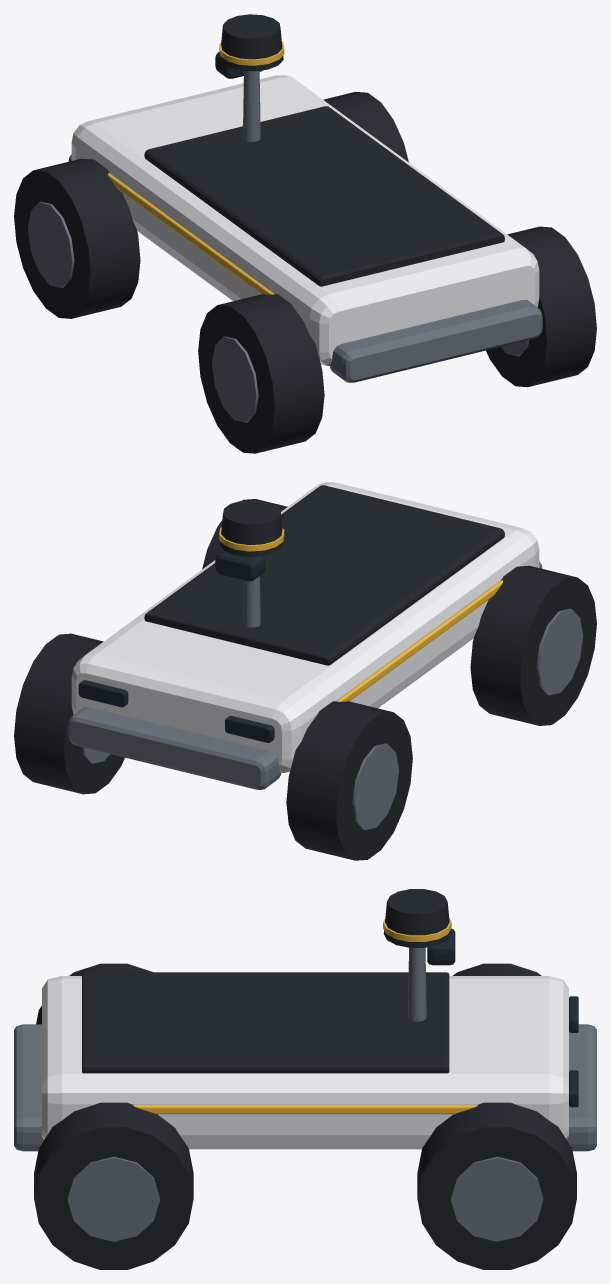
File: rover-BCXiSDiN.glb
3 renders of one model, top to bottom at view 1: azimuth 30°, elevation 25°; view 2: azimuth 150°, elevation 25°; view 3: azimuth 270°, elevation 25°, orthographic. The views are drawn at different scales.
Parts seen in each view (by area): view 1: Dark, Body, WheelRearLeftDark, WheelFrontLeftDark, Mid, WheelRearRightDark, WheelRearLeftMid, WheelFrontLeftMid, WheelFrontRightDark, Trim; view 2: Body, Dark, WheelFrontLeftDark, WheelRearLeftDark, Mid, WheelFrontRightDark, Glass, WheelFrontLeftMid, WheelRearLeftMid, Trim, WheelRearRightDark; view 3: Body, Dark, WheelFrontRightDark, WheelRearRightDark, Mid, WheelFrontRightMid, WheelRearRightMid, Trim, Glass, WheelFrontLeftDark, WheelRearLeftDark.
Boxes of the visible parts, bbox=[...] form: Dark: bbox=[144, 14, 504, 286]; Body: bbox=[71, 75, 539, 365]; WheelRearLeftDark: bbox=[198, 294, 324, 453]; WheelFrontLeftDark: bbox=[14, 158, 140, 318]; Mid: bbox=[68, 70, 542, 382]; WheelRearRightDark: bbox=[486, 226, 596, 387]; WheelRearLeftMid: bbox=[212, 336, 258, 422]; WheelFrontLeftMid: bbox=[28, 201, 74, 288]; WheelFrontRightDark: bbox=[323, 92, 408, 162]; Trim: bbox=[108, 41, 284, 294]; Body: bbox=[71, 482, 539, 772]; Dark: bbox=[144, 485, 504, 665]; WheelFrontLeftDark: bbox=[286, 701, 412, 860]; WheelRearLeftDark: bbox=[470, 565, 596, 725]; Mid: bbox=[68, 561, 542, 789]; WheelFrontRightDark: bbox=[14, 633, 124, 794]; Glass: bbox=[78, 550, 274, 742]; WheelFrontLeftMid: bbox=[352, 743, 398, 829]; WheelRearLeftMid: bbox=[536, 608, 582, 695]; Trim: bbox=[219, 527, 503, 701]; WheelRearRightDark: bbox=[202, 499, 287, 569]; Body: bbox=[42, 976, 568, 1149]; Dark: bbox=[82, 889, 450, 1073]; WheelFrontRightDark: bbox=[417, 1102, 576, 1269]; WheelRearRightDark: bbox=[34, 1102, 193, 1269]; Mid: bbox=[14, 947, 596, 1151]; WheelFrontRightMid: bbox=[451, 1156, 543, 1241]; WheelRearRightMid: bbox=[67, 1156, 159, 1241]; Trim: bbox=[133, 918, 477, 1114]; Glass: bbox=[427, 928, 578, 1107]; WheelFrontLeftDark: bbox=[453, 963, 541, 975]; WheelRearLeftDark: bbox=[36, 963, 152, 1024].
Size of the model in its own units: 0.492 by 0.396 by 0.73.
